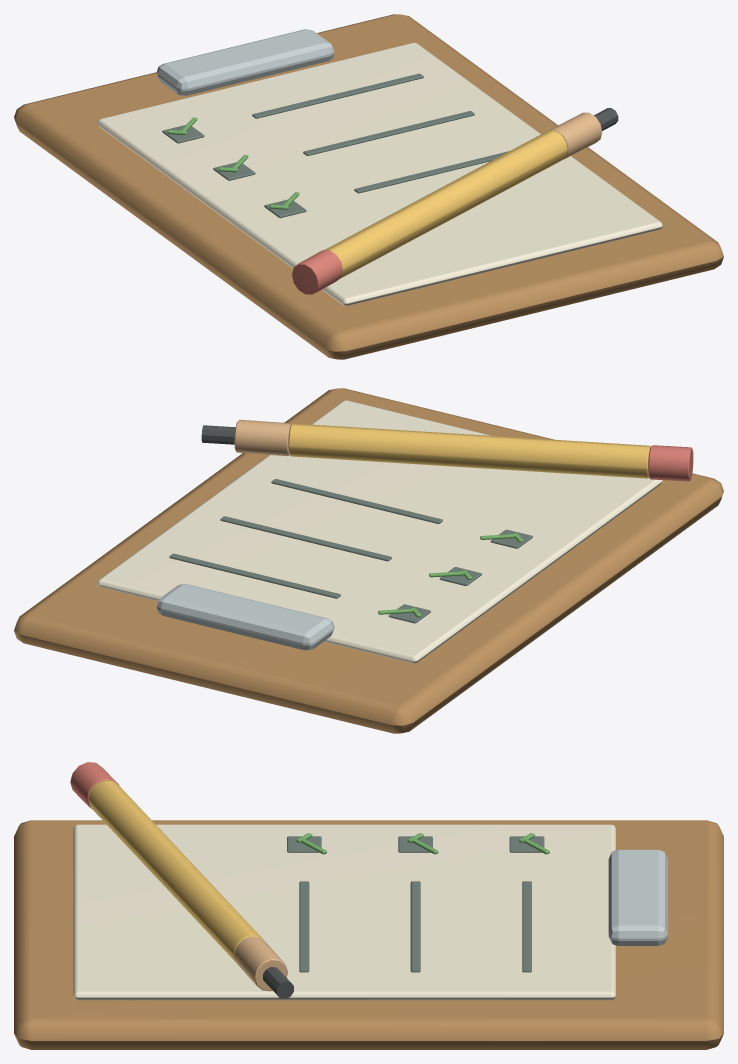
File: FieldworkClipboard.glb
The picture shows the model from 3 angles, top to bottom: view 1: azimuth 30°, elevation 25°; view 2: azimuth 150°, elevation 25°; view 3: azimuth 270°, elevation 25°; orthographic projection. The views are drawn at different scales.
Visible parts, largest first — view 1: FieldworkClipboard_Paper, FieldworkClipboard_Board, FieldworkClipboard_Pencil_Body, FieldworkClipboard_Clip, FieldworkClipboard_Pencil_Eraser, FieldworkClipboard_Pencil_Wood, FieldworkClipboard_Line_01, FieldworkClipboard_Line_02, FieldworkClipboard_Line_03; view 2: FieldworkClipboard_Paper, FieldworkClipboard_Board, FieldworkClipboard_Pencil_Body, FieldworkClipboard_Clip, FieldworkClipboard_Pencil_Wood, FieldworkClipboard_Pencil_Eraser, FieldworkClipboard_Line_01, FieldworkClipboard_Line_02, FieldworkClipboard_Line_03, FieldworkClipboard_Pencil_Graphite; view 3: FieldworkClipboard_Paper, FieldworkClipboard_Board, FieldworkClipboard_Pencil_Body, FieldworkClipboard_Clip, FieldworkClipboard_Pencil_Wood, FieldworkClipboard_Line_02, FieldworkClipboard_Line_03, FieldworkClipboard_Pencil_Eraser, FieldworkClipboard_Line_01, FieldworkClipboard_Pencil_Graphite.
Part boxes in pixels (<box>): FieldworkClipboard_Paper: <box>97,42,662,305</box>; FieldworkClipboard_Board: <box>14,14,723,359</box>; FieldworkClipboard_Pencil_Body: <box>324,130,567,278</box>; FieldworkClipboard_Clip: <box>157,29,334,95</box>; FieldworkClipboard_Pencil_Eraser: <box>292,250,342,294</box>; FieldworkClipboard_Pencil_Wood: <box>549,112,602,159</box>; FieldworkClipboard_Line_01: <box>252,73,423,118</box>; FieldworkClipboard_Line_02: <box>303,111,474,155</box>; FieldworkClipboard_Line_03: <box>354,151,508,193</box>; FieldworkClipboard_Paper: <box>97,400,662,663</box>; FieldworkClipboard_Board: <box>14,388,723,733</box>; FieldworkClipboard_Pencil_Body: <box>288,423,650,478</box>; FieldworkClipboard_Clip: <box>157,584,334,650</box>; FieldworkClipboard_Pencil_Wood: <box>234,419,291,456</box>; FieldworkClipboard_Pencil_Eraser: <box>648,445,693,481</box>; FieldworkClipboard_Line_01: <box>169,553,340,598</box>; FieldworkClipboard_Line_02: <box>220,516,391,561</box>; FieldworkClipboard_Line_03: <box>271,479,442,523</box>; FieldworkClipboard_Pencil_Graphite: <box>201,425,235,444</box>; FieldworkClipboard_Paper: <box>73,824,615,1000</box>; FieldworkClipboard_Board: <box>14,820,723,1049</box>; FieldworkClipboard_Pencil_Body: <box>88,780,264,962</box>; FieldworkClipboard_Clip: <box>608,849,667,945</box>; FieldworkClipboard_Pencil_Wood: <box>234,936,287,991</box>; FieldworkClipboard_Line_02: <box>410,881,420,972</box>; FieldworkClipboard_Line_03: <box>299,881,309,972</box>; FieldworkClipboard_Pencil_Eraser: <box>70,762,119,808</box>; FieldworkClipboard_Line_01: <box>522,881,531,972</box>; FieldworkClipboard_Pencil_Graphite: <box>263,966,293,998</box>.
Bounding box in the file's own units: 0.7349 × 0.137 × 1.02.
